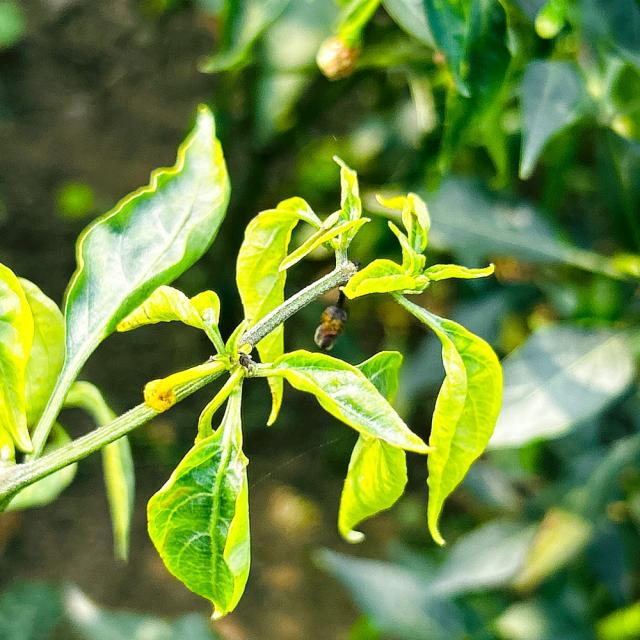Chilli_Leaf_Curl: (2, 105, 504, 619), (26, 103, 232, 461), (336, 189, 504, 546), (388, 290, 504, 546), (145, 369, 252, 620), (264, 348, 434, 455), (338, 190, 496, 301), (335, 349, 409, 543), (0, 261, 67, 463)
